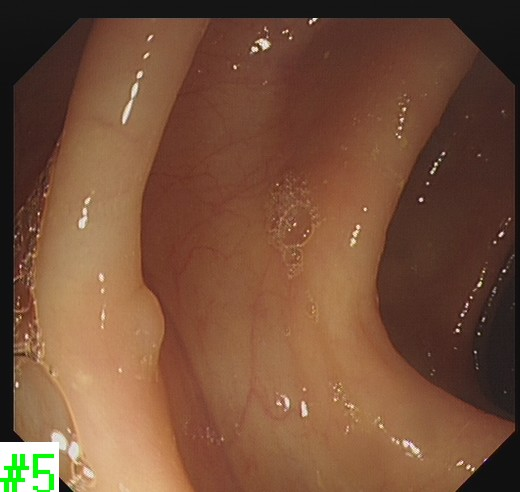others: (130, 282, 167, 361)
